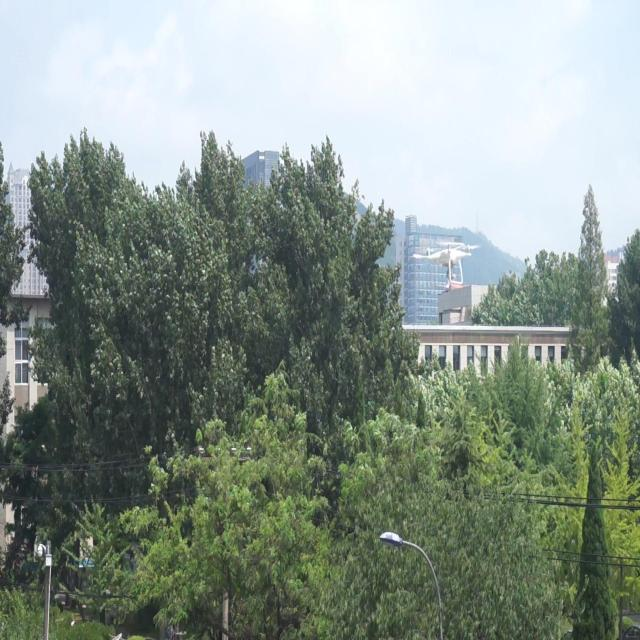drone: (412, 239, 480, 286)
